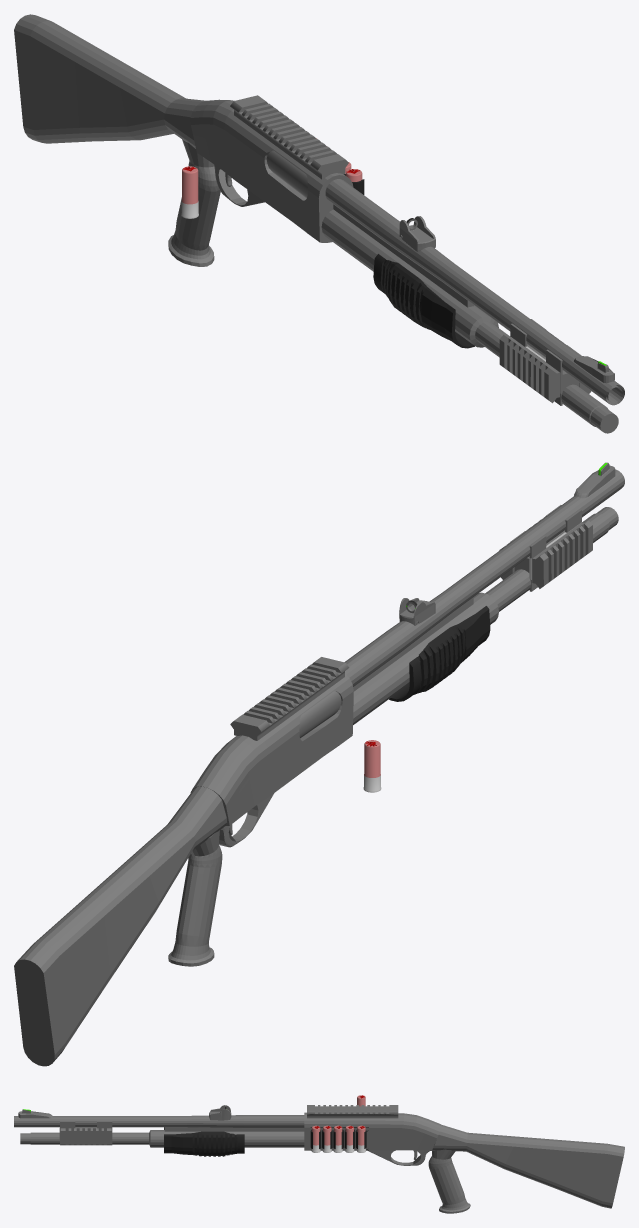
File: shotgun3.fbx
The picture shows the model from 3 angles, top to bottom: view 1: azimuth 30°, elevation 25°; view 2: azimuth 150°, elevation 25°; view 3: azimuth 270°, elevation 25°; orthographic projection. The views are drawn at different scales.
Parts seen in each view (by area): view 1: polySurface87, polySurface126, polySurface114, polySurface128, polySurface115, polySurface92, polySurface88, polySurface117, polySurface90, polySurface127, polySurface73, polySurface84 (+1 smaller); view 2: polySurface87, polySurface126, polySurface114, polySurface128, polySurface88, polySurface115, polySurface92, polySurface117, polySurface90, polySurface73, polySurface121; view 3: polySurface87, polySurface114, polySurface126, polySurface128, polySurface92, polySurface88, polySurface115, polySurface112, polySurface127, polySurface121, polySurface84, polySurface77 (+5 smaller).
Part boxes in pixels (x1=…): polySurface87: x1=14, y1=14, x2=206, y2=148; polySurface126: x1=190, y1=99, x2=353, y2=242; polySurface114: x1=325, y1=179, x2=624, y2=405; polySurface128: x1=321, y1=209, x2=618, y2=433; polySurface115: x1=230, y1=95, x2=348, y2=179; polySurface92: x1=373, y1=254, x2=474, y2=348; polySurface88: x1=168, y1=139, x2=220, y2=266; polySurface117: x1=499, y1=334, x2=559, y2=403; polySurface90: x1=266, y1=150, x2=307, y2=198; polySurface127: x1=333, y1=204, x2=473, y2=307; polySurface73: x1=181, y1=166, x2=198, y2=218; polySurface84: x1=399, y1=216, x2=435, y2=252; polySurface87: x1=14, y1=786, x2=226, y2=1066; polySurface126: x1=190, y1=673, x2=353, y2=825; polySurface114: x1=344, y1=469, x2=624, y2=686; polySurface128: x1=353, y1=507, x2=618, y2=724; polySurface88: x1=168, y1=830, x2=222, y2=966; polySurface115: x1=230, y1=657, x2=349, y2=740; polySurface92: x1=389, y1=606, x2=490, y2=701; polySurface117: x1=532, y1=520, x2=592, y2=588; polySurface90: x1=299, y1=691, x2=341, y2=738; polySurface73: x1=363, y1=740, x2=381, y2=792; polySurface121: x1=219, y1=793, x2=273, y2=847; polySurface87: x1=430, y1=1124, x2=624, y2=1208; polySurface114: x1=14, y1=1115, x2=304, y2=1128; polySurface126: x1=304, y1=1112, x2=440, y2=1150; polySurface128: x1=20, y1=1130, x2=304, y2=1147; polySurface92: x1=164, y1=1127, x2=244, y2=1156; polySurface88: x1=428, y1=1149, x2=470, y2=1213; polySurface115: x1=307, y1=1105, x2=398, y2=1118; polySurface112: x1=60, y1=1128, x2=111, y2=1145; polySurface127: x1=164, y1=1127, x2=304, y2=1131; polySurface121: x1=368, y1=1150, x2=429, y2=1165; polySurface84: x1=209, y1=1105, x2=231, y2=1120; polySurface77: x1=18, y1=1111, x2=52, y2=1118.
Size of the model in its own units: 12.79 by 17.87 by 96.09.
